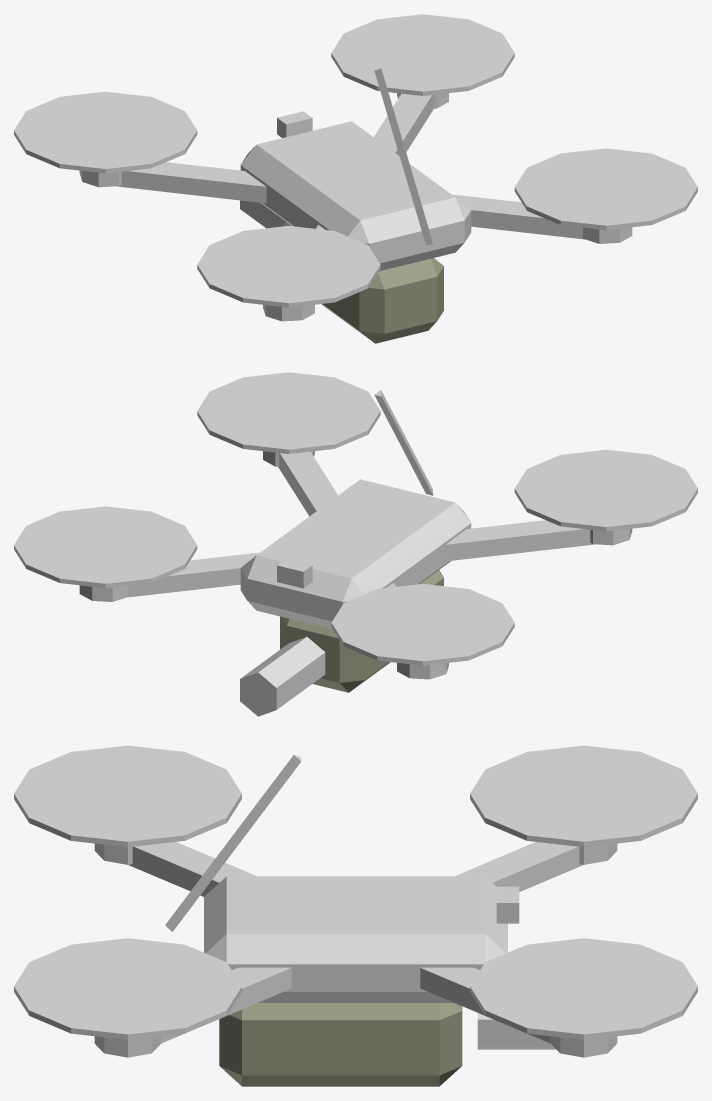
The model's file is fpv_red.glb.
The picture shows the model from 3 angles, top to bottom: view 1: azimuth 30°, elevation 25°; view 2: azimuth 150°, elevation 25°; view 3: azimuth 270°, elevation 25°; orthographic projection. The views are drawn at different scales.
Visible parts, largest first — view 1: body; view 2: body; view 3: body.
Part boxes in pixels (x1,y1,x2,y2): body: (14,14,697,343); body: (14,372,697,716); body: (14,745,697,1086).
Size of the model in its own units: 0.45 by 0.2292 by 0.45.
